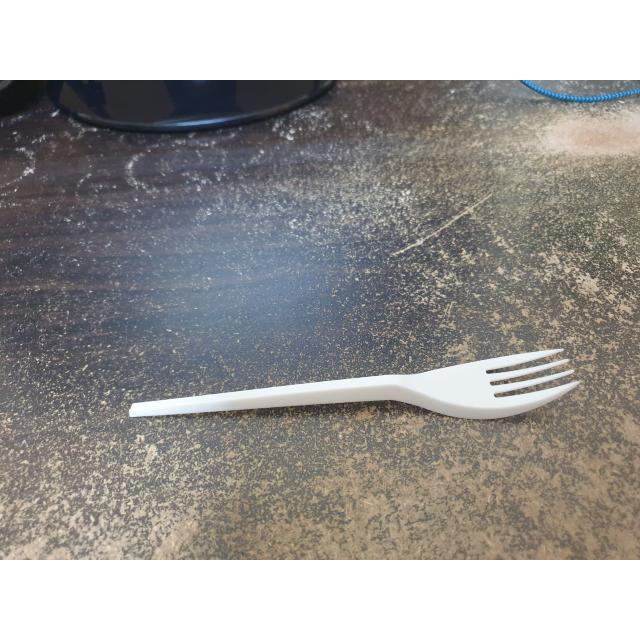Plastico descartable: (129, 349, 579, 419)
